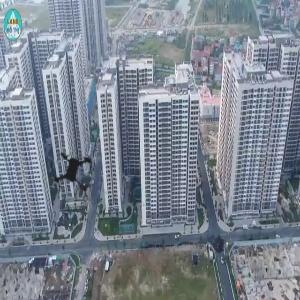drone: (21, 122, 123, 224)
